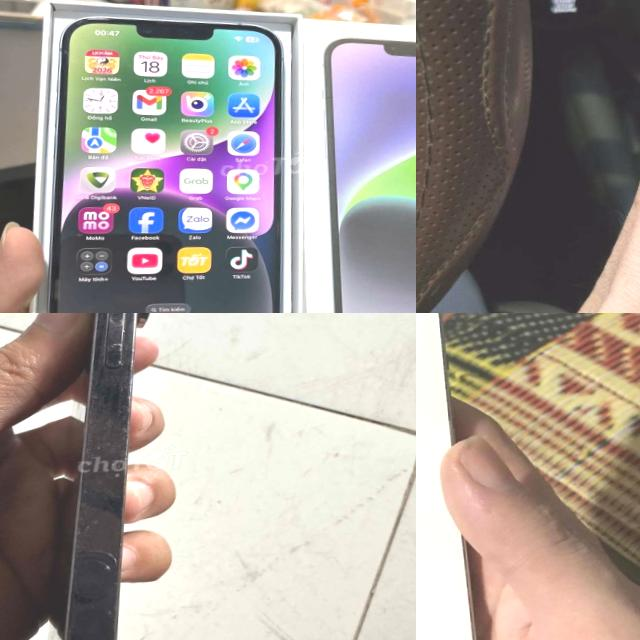scratch: (78, 313, 143, 409), (72, 499, 125, 569)
